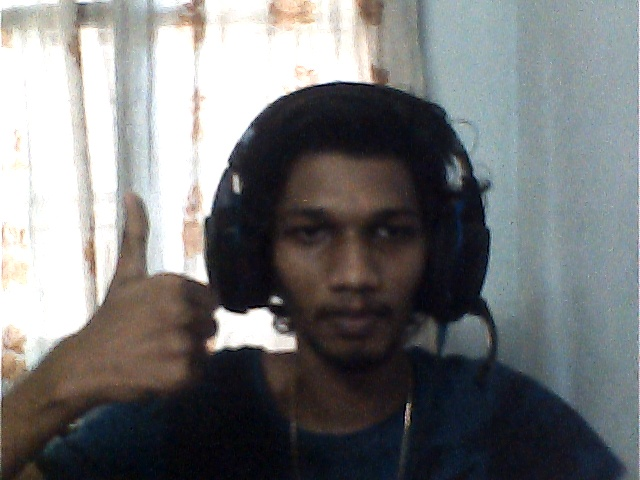ThumbsUp: (94, 194, 216, 401)
